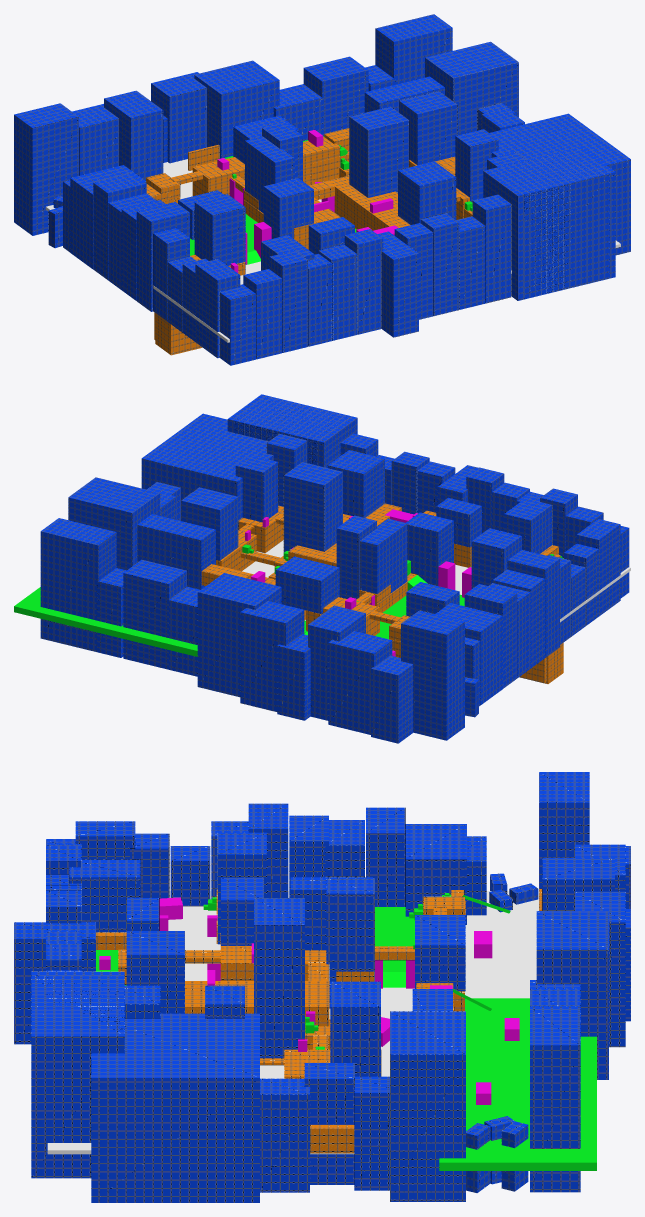
Rendered from cyberpixel.fbx.
3 renders of one model, top to bottom at view 1: azimuth 30°, elevation 25°; view 2: azimuth 150°, elevation 25°; view 3: azimuth 270°, elevation 25°, orthographic. The views are drawn at different scales.
Visible parts, largest first — view 1: unlazable, Cube__120_.001, Cube__120_; view 2: unlazable, Cube__120_.001, Cube__120_; view 3: unlazable, Cube__120_, Cube__120_.001.
Part boxes in pixels (x1=…): unlazable: x1=14, y1=14, x2=630, y2=365; Cube__120_.001: x1=146, y1=128, x2=472, y2=355; Cube__120_: x1=45, y1=129, x2=620, y2=342; unlazable: x1=40, y1=394, x2=629, y2=743; Cube__120_.001: x1=201, y1=503, x2=563, y2=683; Cube__120_: x1=14, y1=509, x2=630, y2=656; unlazable: x1=14, y1=772, x2=630, y2=1202; Cube__120_: x1=47, y1=891, x2=596, y2=1170; Cube__120_.001: x1=96, y1=888, x2=542, y2=1153.
Bounding box in the file's own units: 15141 × 5402 × 13687.
